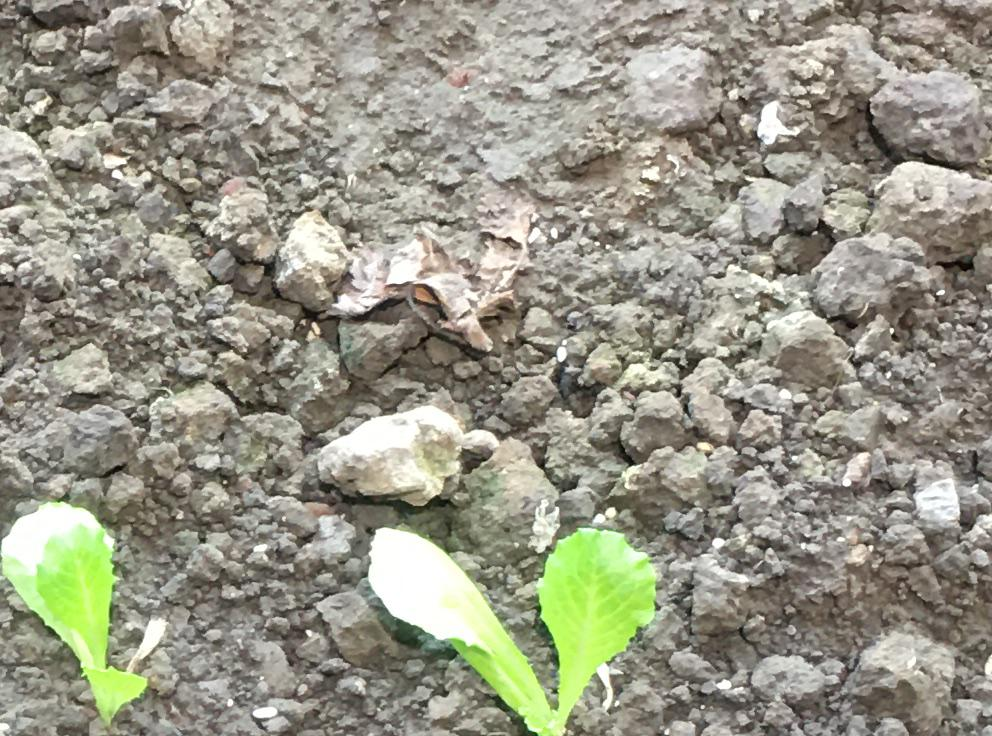block: (313, 404, 459, 514), (859, 156, 992, 250), (867, 67, 990, 167), (461, 436, 549, 567), (802, 236, 932, 317), (271, 208, 351, 317)
